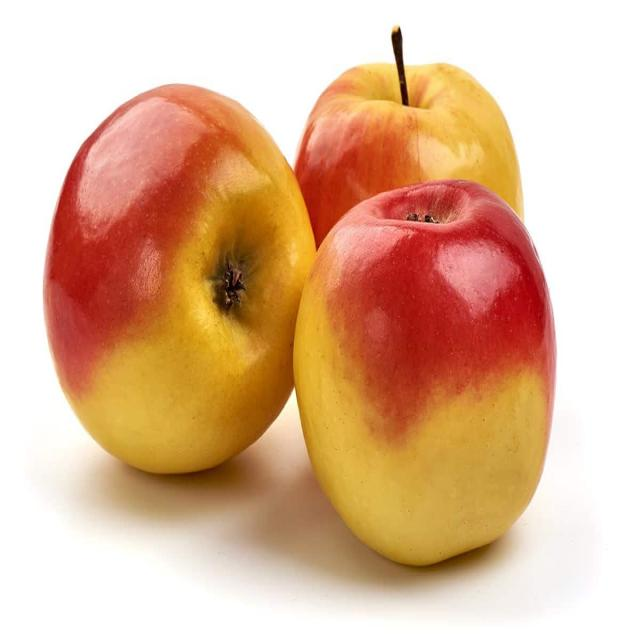Red Apple: (40, 68, 318, 477), (290, 151, 558, 572)
